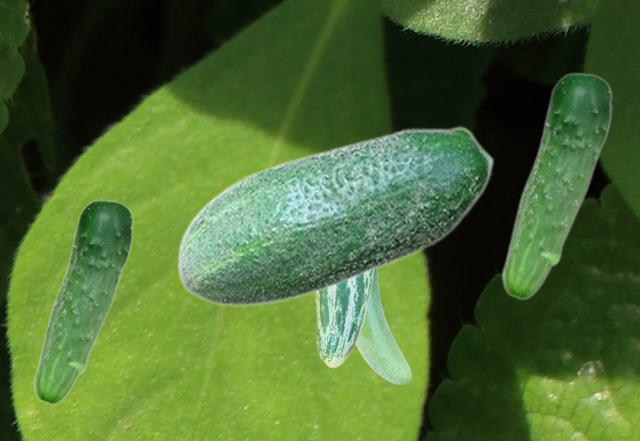cucumber: (176, 125, 494, 306), (501, 72, 612, 299), (32, 199, 133, 404), (356, 270, 410, 383), (314, 272, 373, 367)
